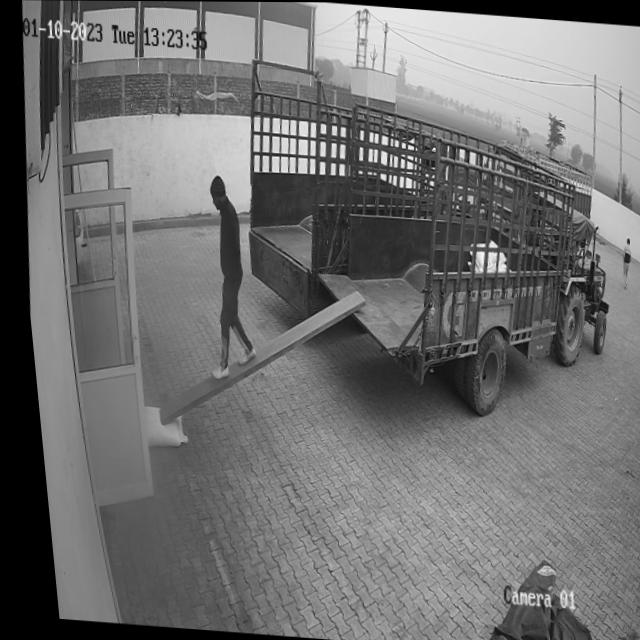sack: (133, 405, 180, 447)
